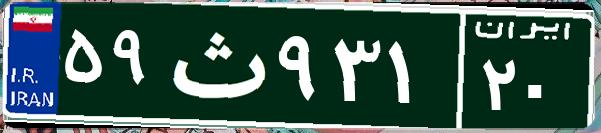0: (525, 38, 570, 115)
1: (385, 28, 445, 110)
2: (475, 38, 525, 113)
3: (330, 28, 385, 110)
5: (57, 26, 110, 107)
9: (273, 28, 330, 110), (110, 28, 158, 105)
ث: (158, 15, 273, 115)
